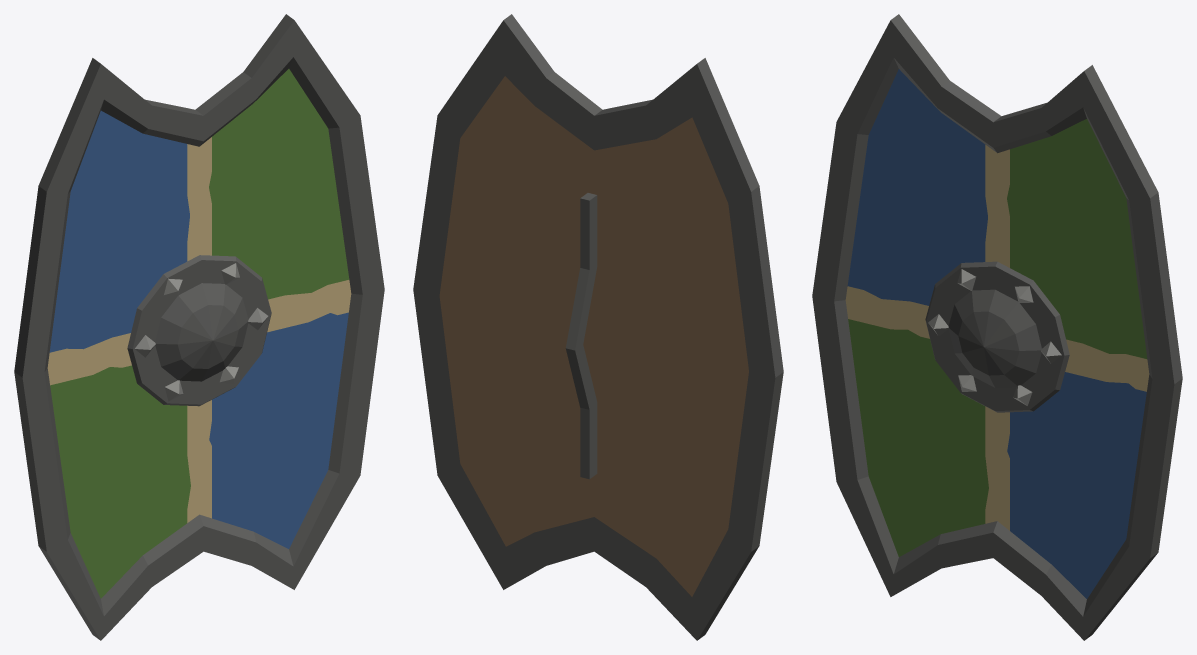
File: SM_pwe_gauls_shield_09a.fbx
3 views of the same model, side by side, from view 1: azimuth 30°, elevation 25°; view 2: azimuth 150°, elevation 25°; view 3: azimuth 330°, elevation 25° (orthographic).
Visible parts, largest first — view 1: SM_pwe_gauls_shield_09a; view 2: SM_pwe_gauls_shield_09a; view 3: SM_pwe_gauls_shield_09a.
Part boxes in pixels (box(x1,y1,x2,y2)): SM_pwe_gauls_shield_09a: box(14, 14, 384, 640); SM_pwe_gauls_shield_09a: box(413, 14, 783, 640); SM_pwe_gauls_shield_09a: box(812, 14, 1182, 640).
Size of the model in its own units: 59.01 by 89.87 by 11.28.
